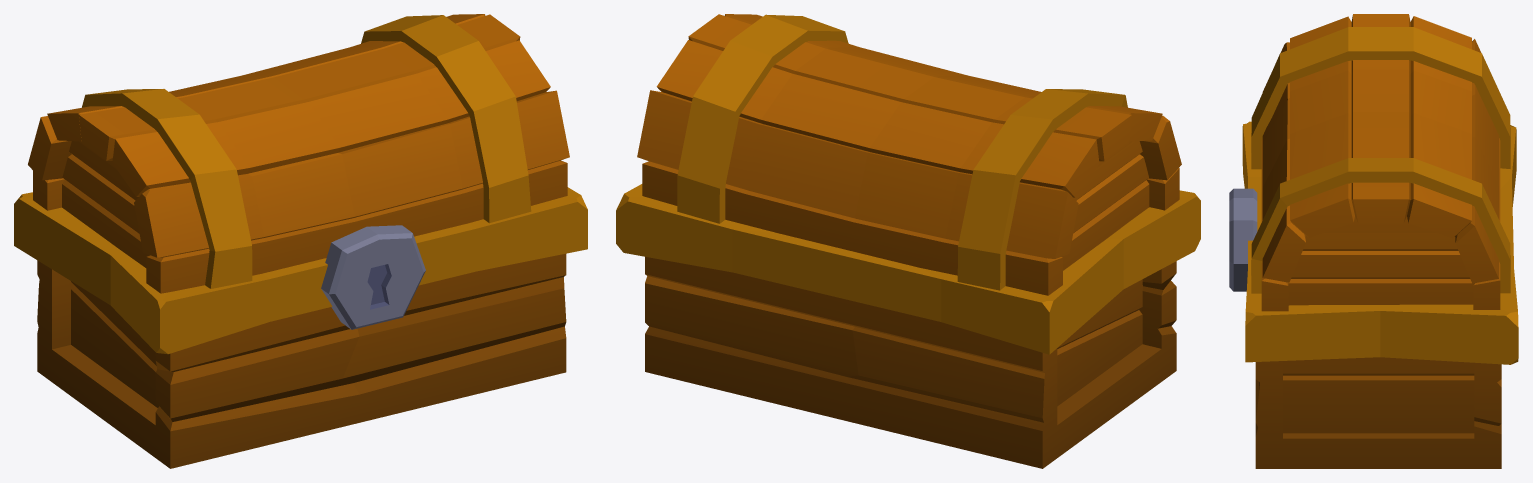
File: Cheast_01.glb
3 views of the same model, side by side, from view 1: azimuth 30°, elevation 25°; view 2: azimuth 150°, elevation 25°; view 3: azimuth 270°, elevation 25° (orthographic). The views are drawn at different scales.
Visible parts, largest first — view 1: Cheast_Parts_01, Cheast_01; view 2: Cheast_Parts_01, Cheast_01; view 3: Cheast_Parts_01, Cheast_01.
Part boxes in pixels (bbox=[...]): Cheast_Parts_01: bbox=[28, 14, 569, 293]; Cheast_01: bbox=[14, 187, 587, 468]; Cheast_Parts_01: bbox=[637, 14, 1181, 295]; Cheast_01: bbox=[616, 184, 1200, 468]; Cheast_Parts_01: bbox=[1251, 14, 1510, 311]; Cheast_01: bbox=[1229, 121, 1518, 468].
Bounding box in the file's own units: 1.16 × 0.7758 × 0.7247.
Materials: 1 (1 with a texture image).
